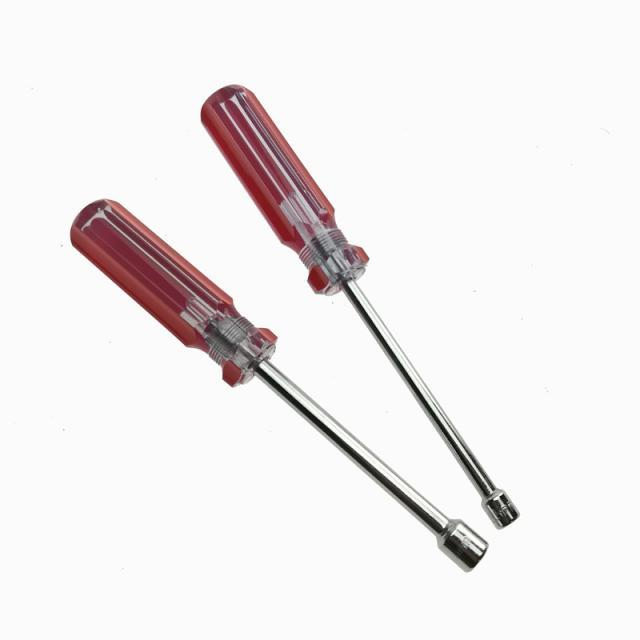screwdriver: (64, 190, 492, 574), (195, 78, 522, 532)
